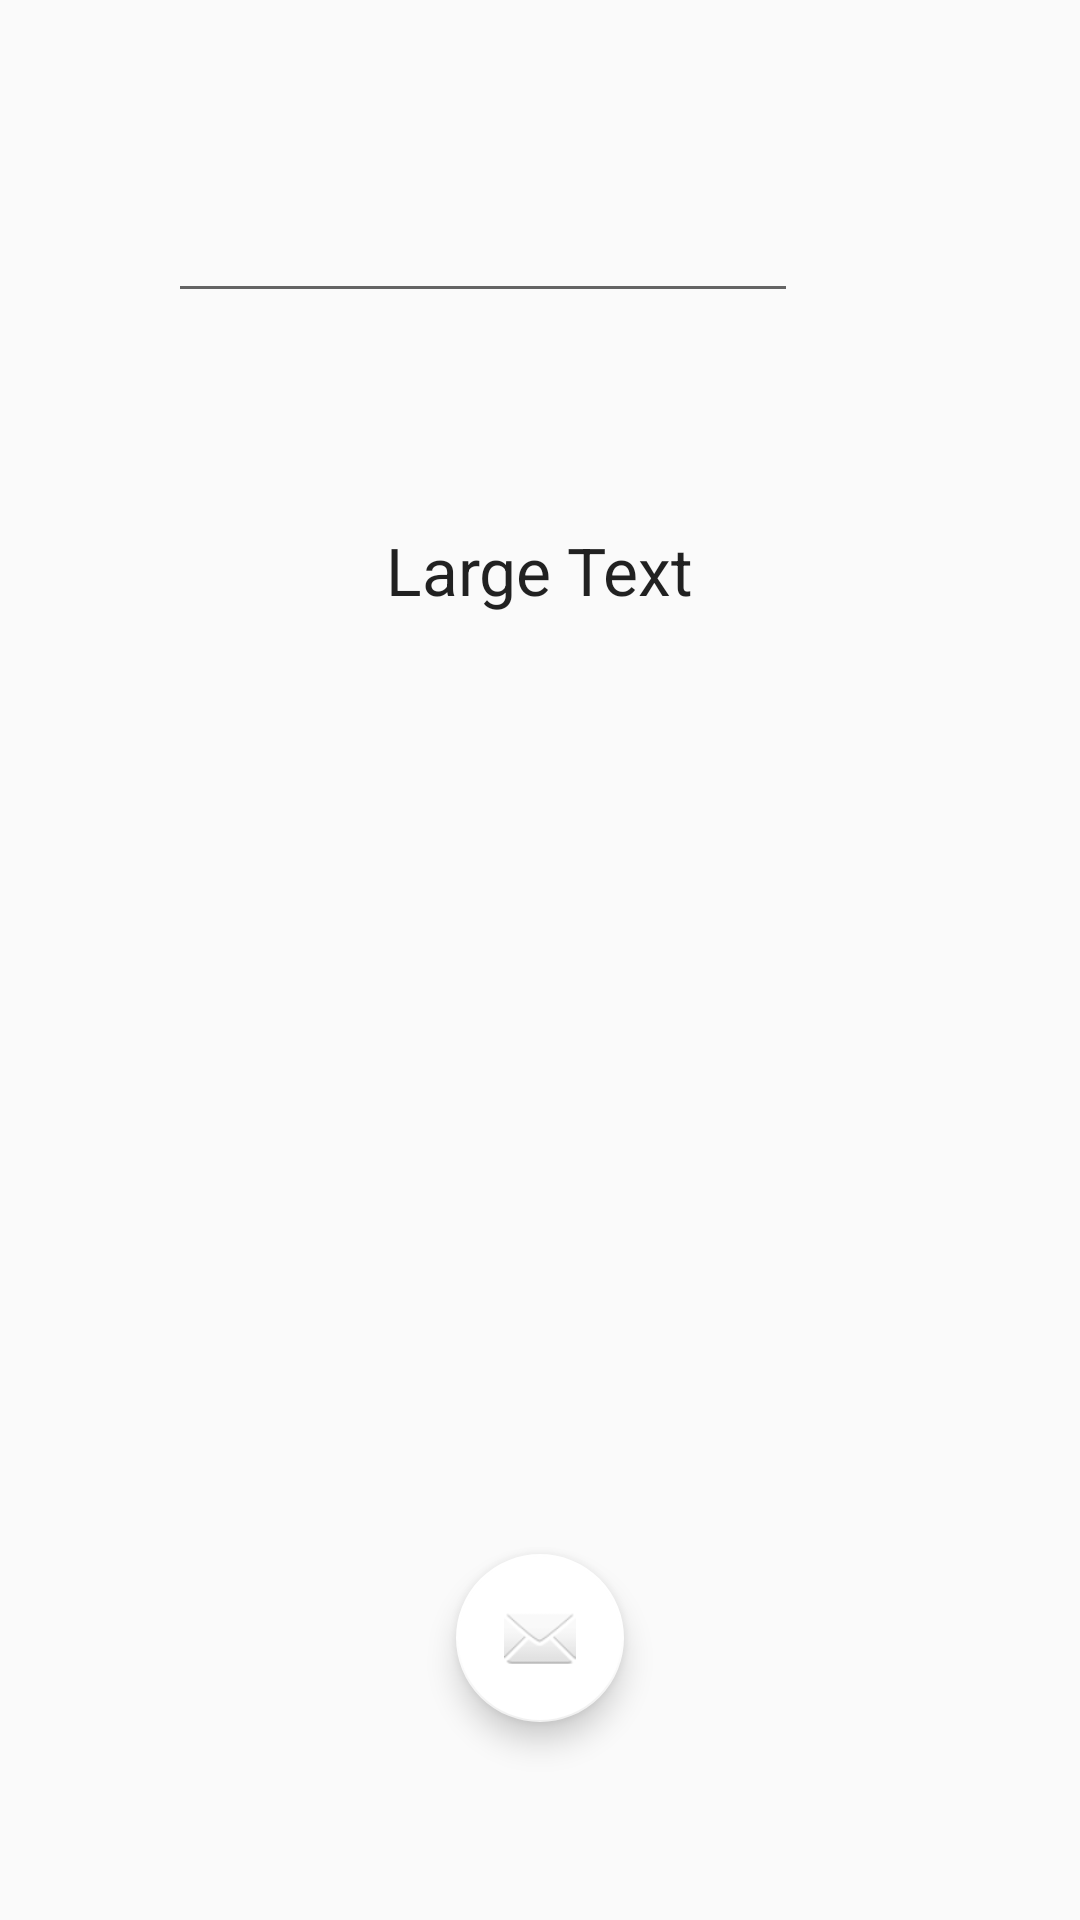

Point at icon controls on the screen. Image size 1080*1920, points as (x=x, y=y).
email: (x=540, y=1668)
